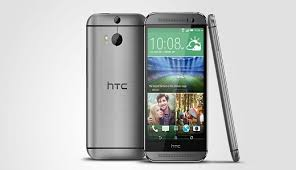htc: (140, 11, 209, 161), (82, 10, 144, 162)
